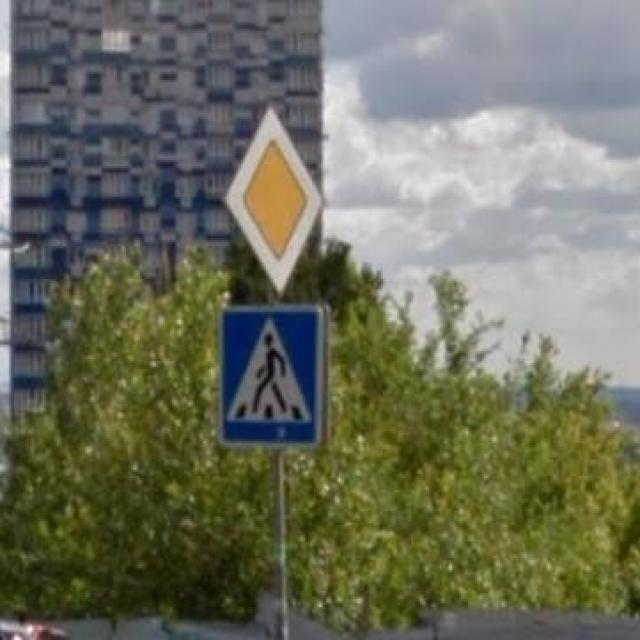traffic_sign: (220, 103, 328, 300), (213, 302, 335, 451)
